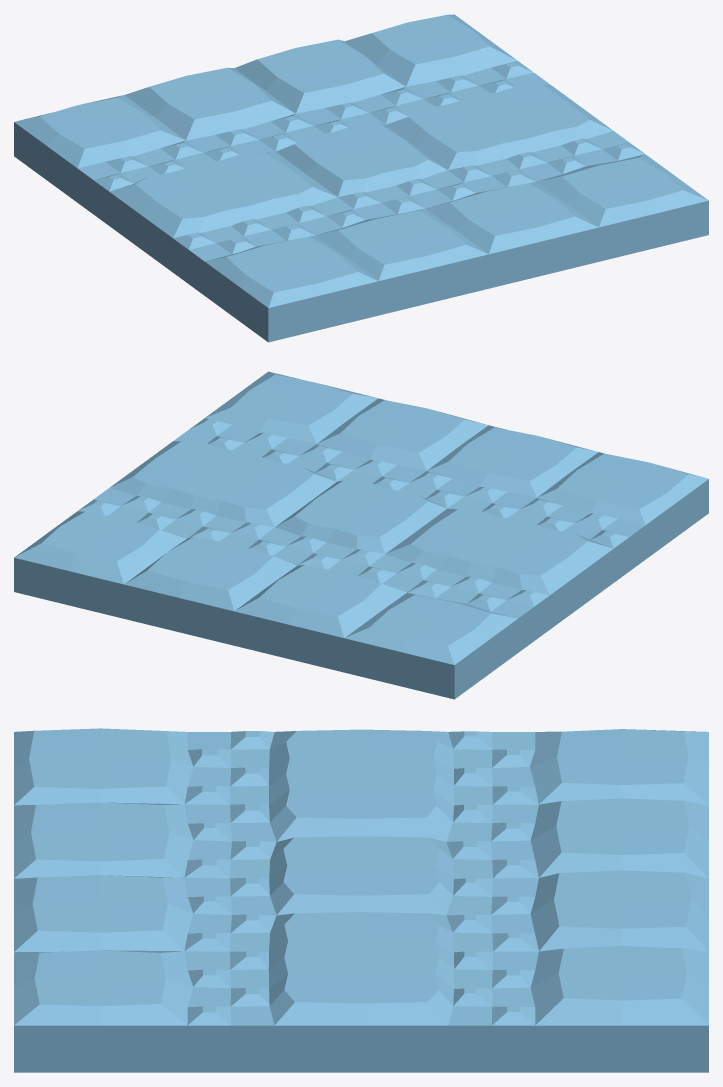
The model's file is tracks.fbx.
3 renders of one model, top to bottom at view 1: azimuth 30°, elevation 25°; view 2: azimuth 150°, elevation 25°; view 3: azimuth 270°, elevation 25°, orthographic. The views are drawn at different scales.
Parts seen in each view (by area): view 1: Cube.021; view 2: Cube.021; view 3: Cube.021.
Boxes of the visible parts, x1,y1,x2,y2 form: Cube.021: (14,14,708,342); Cube.021: (14,371,708,699); Cube.021: (14,728,708,1072).
Size of the model in its own units: 300 by 30 by 300.
